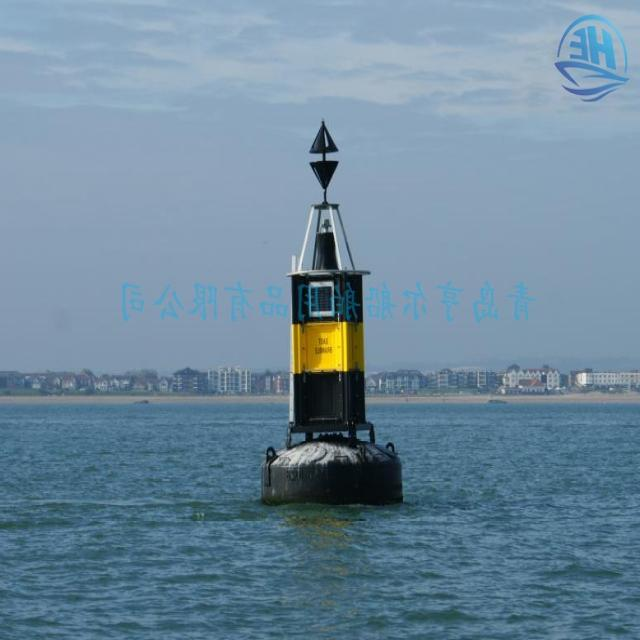buoy: (258, 114, 404, 507)
